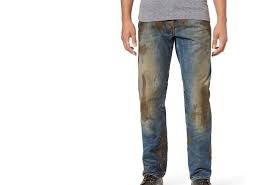earth: (198, 87, 212, 126), (158, 131, 168, 170), (140, 77, 149, 120), (139, 24, 145, 54), (155, 22, 163, 31)
